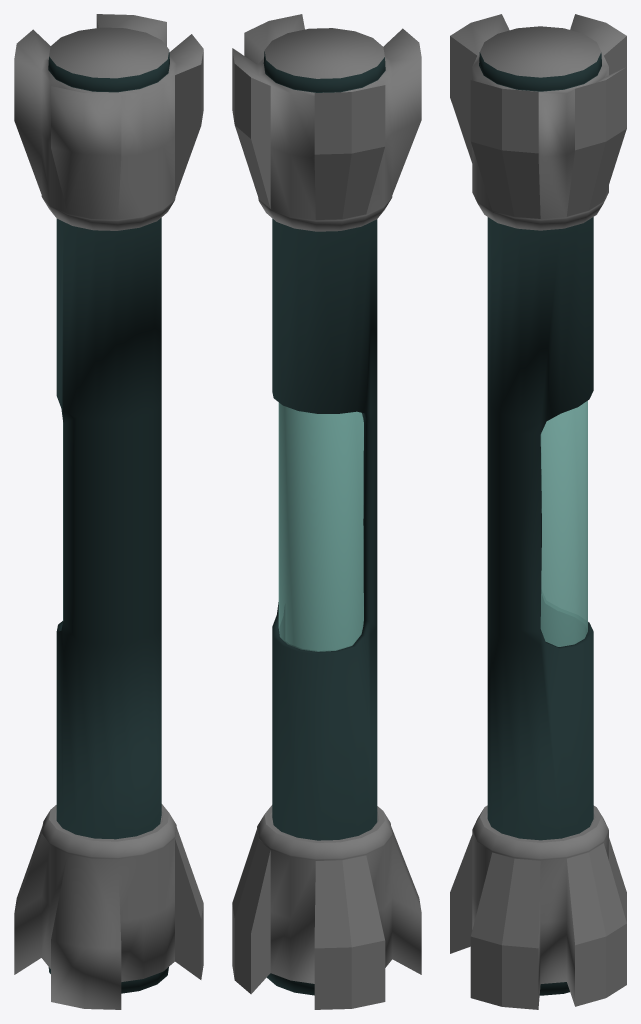
File: ForceFeildCage.fbx
The picture shows the model from 3 angles, left to right: view 1: azimuth 30°, elevation 25°; view 2: azimuth 150°, elevation 25°; view 3: azimuth 270°, elevation 25°; orthographic projection.
Parts seen in each view (by area): view 1: ForceCage; view 2: ForceCage, ForceField; view 3: ForceCage, ForceField.
Part boxes in pixels (x1=…): ForceCage: x1=14, y1=14, x2=203, y2=1009; ForceCage: x1=232, y1=14, x2=421, y2=1009; ForceField: x1=278, y1=402, x2=363, y2=651; ForceCage: x1=450, y1=14, x2=626, y2=1009; ForceField: x1=540, y1=400, x2=587, y2=646.
Bounding box in the file's own units: 72.72 × 400 × 69.85.
